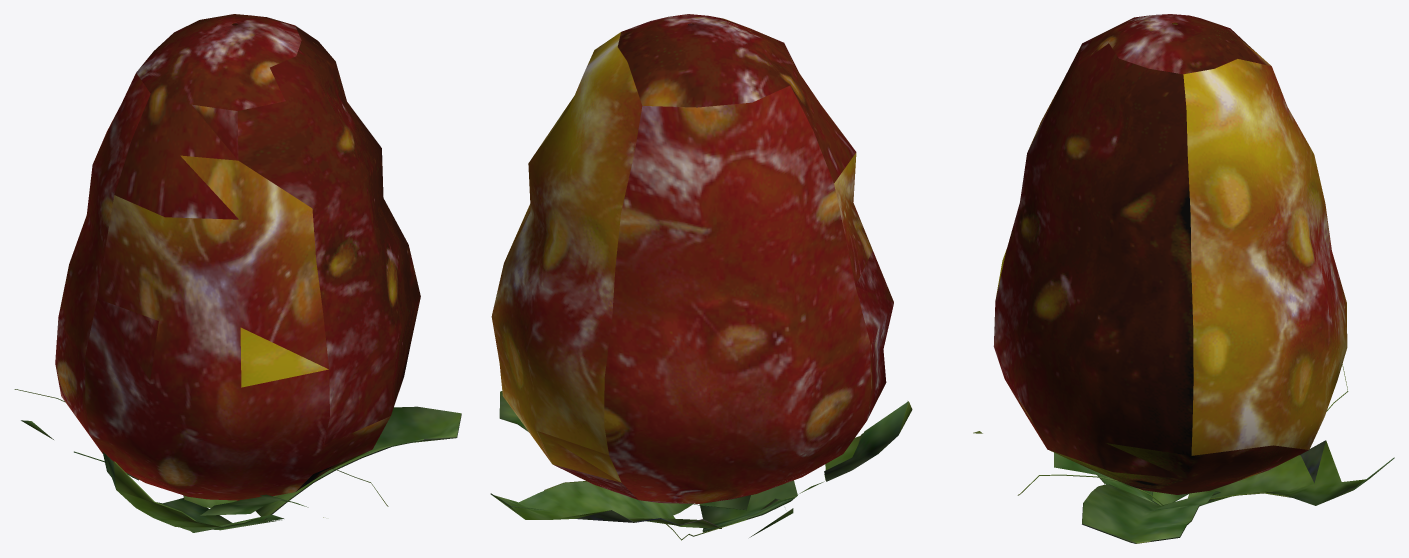
3 views of the same model, side by side, from view 1: azimuth 30°, elevation 25°; view 2: azimuth 150°, elevation 25°; view 3: azimuth 270°, elevation 25° (orthographic). The views are drawn at different scales.
Parts seen in each view (by area): view 1: leaf3; view 2: leaf3; view 3: leaf3.
Boxes of the visible parts, <box> form: leaf3: <box>14,14,461,532</box>; leaf3: <box>490,14,912,540</box>; leaf3: <box>973,14,1394,543</box>.
Size of the model in its own units: 0.0419 by 0.0446 by 0.0529.
